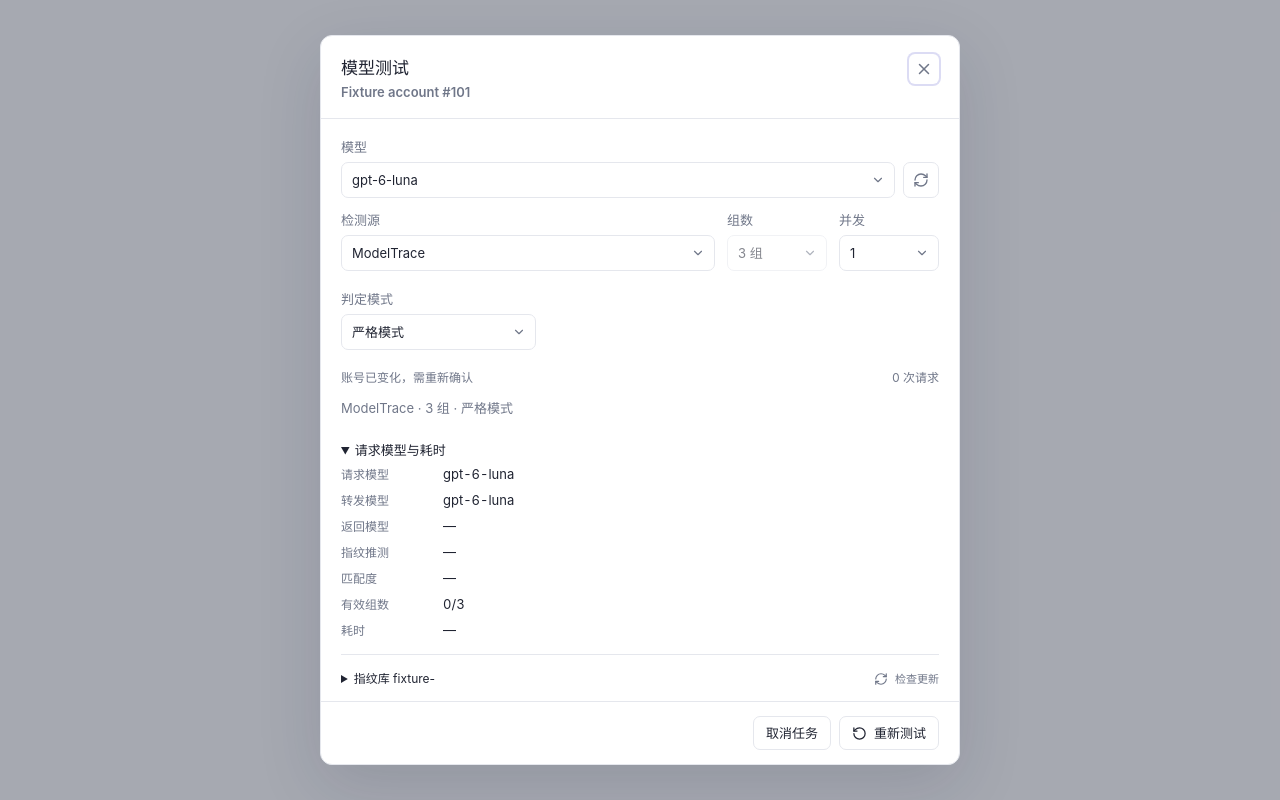
ModelTestDialog candidates › allows a conflicted task to be cancelled
The width and height of the screenshot is (1280, 800).
Click the button "取消任务": (792, 733) x1=753 y1=716 x2=831 y2=750
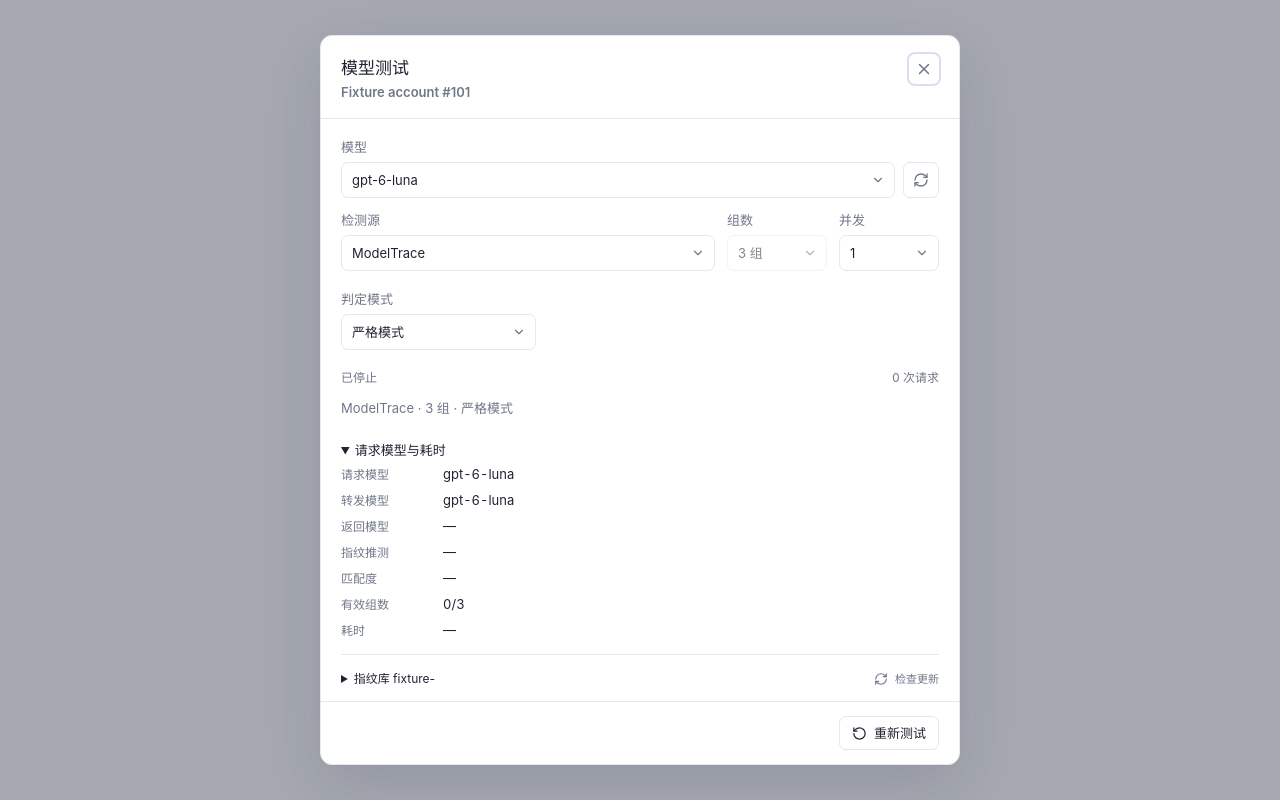
Expected: the text "已停止" is shown, x1=341 y1=368 x2=377 y2=385
